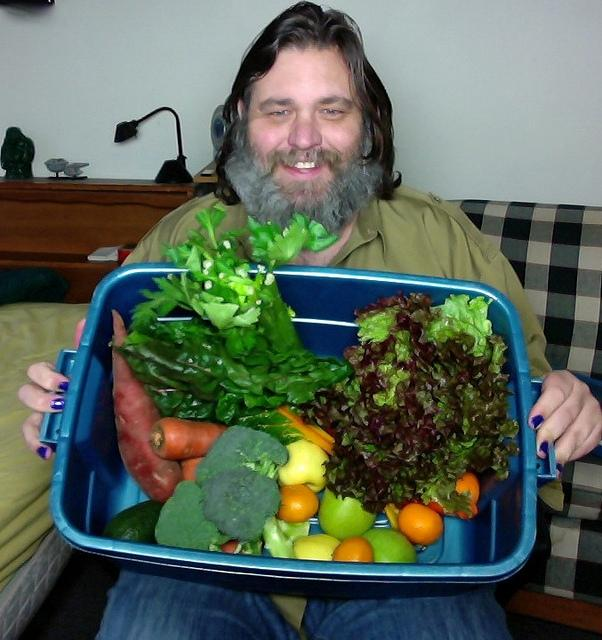broccoli: (194, 426, 296, 559), (202, 465, 280, 542), (154, 480, 233, 552)
carrot: (150, 417, 228, 461), (277, 406, 335, 456), (181, 457, 204, 480)
cucumber: (102, 501, 166, 544)
lettuce: (296, 291, 520, 518), (210, 336, 252, 388)
mandarin: (398, 503, 444, 545), (277, 484, 319, 522), (456, 472, 480, 520), (331, 538, 373, 562)
